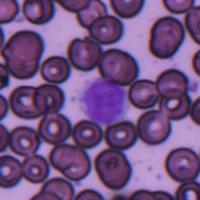L: (80, 77, 128, 125)
